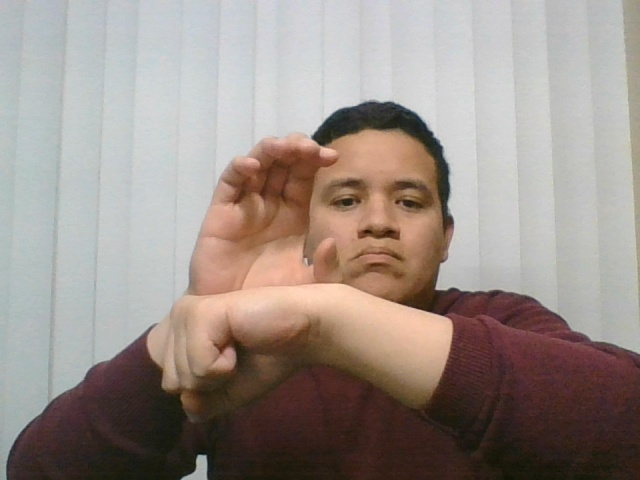Church: (138, 112, 351, 431)
